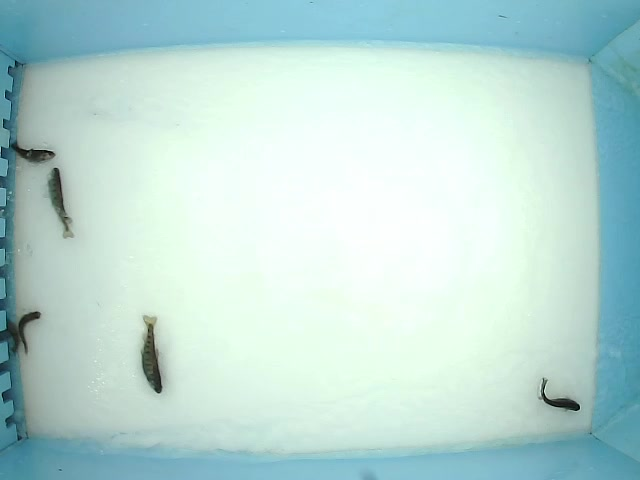fish: (43, 167, 76, 242), (139, 313, 163, 396), (536, 376, 582, 415), (17, 308, 43, 358), (9, 138, 56, 163)
